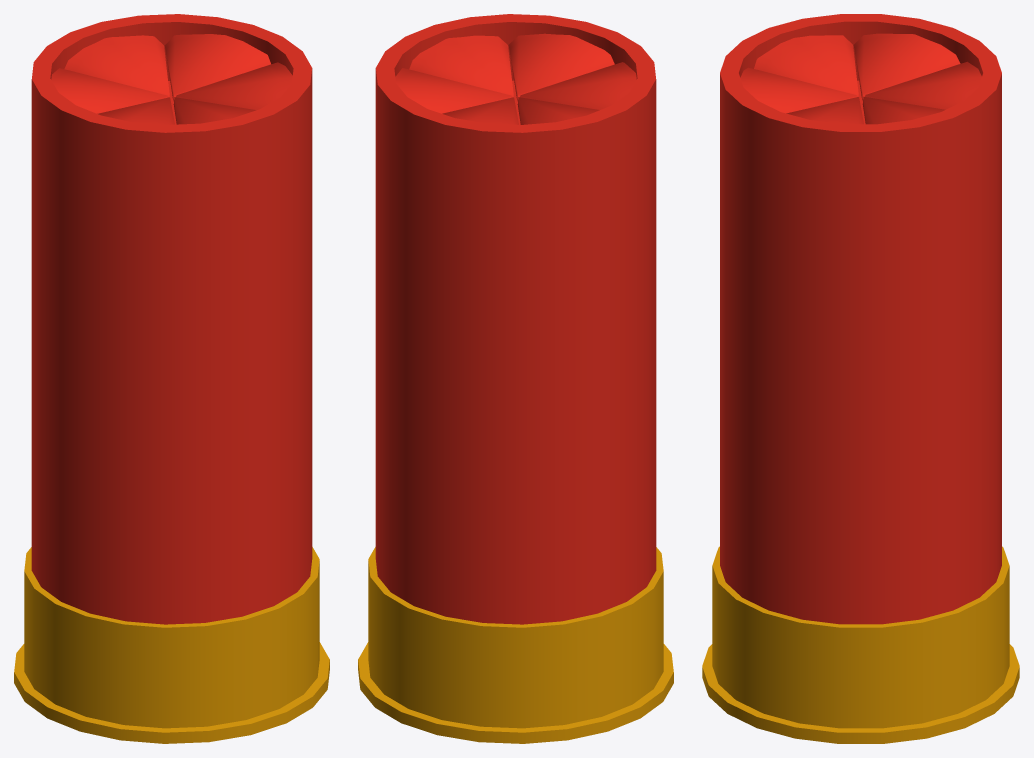
The model's file is ammoBuck-food.fbx.
3 views of the same model, side by side, from view 1: azimuth 30°, elevation 25°; view 2: azimuth 150°, elevation 25°; view 3: azimuth 270°, elevation 25° (orthographic).
Visible parts, largest first — view 1: ammoBuck-food; view 2: ammoBuck-food; view 3: ammoBuck-food.
Part boxes in pixels (x1,y1,x2,y2): ammoBuck-food: [14, 14, 329, 743]; ammoBuck-food: [358, 14, 673, 743]; ammoBuck-food: [702, 14, 1019, 743].
Size of the model in its own units: 0.0327 by 0.0693 by 0.033.
